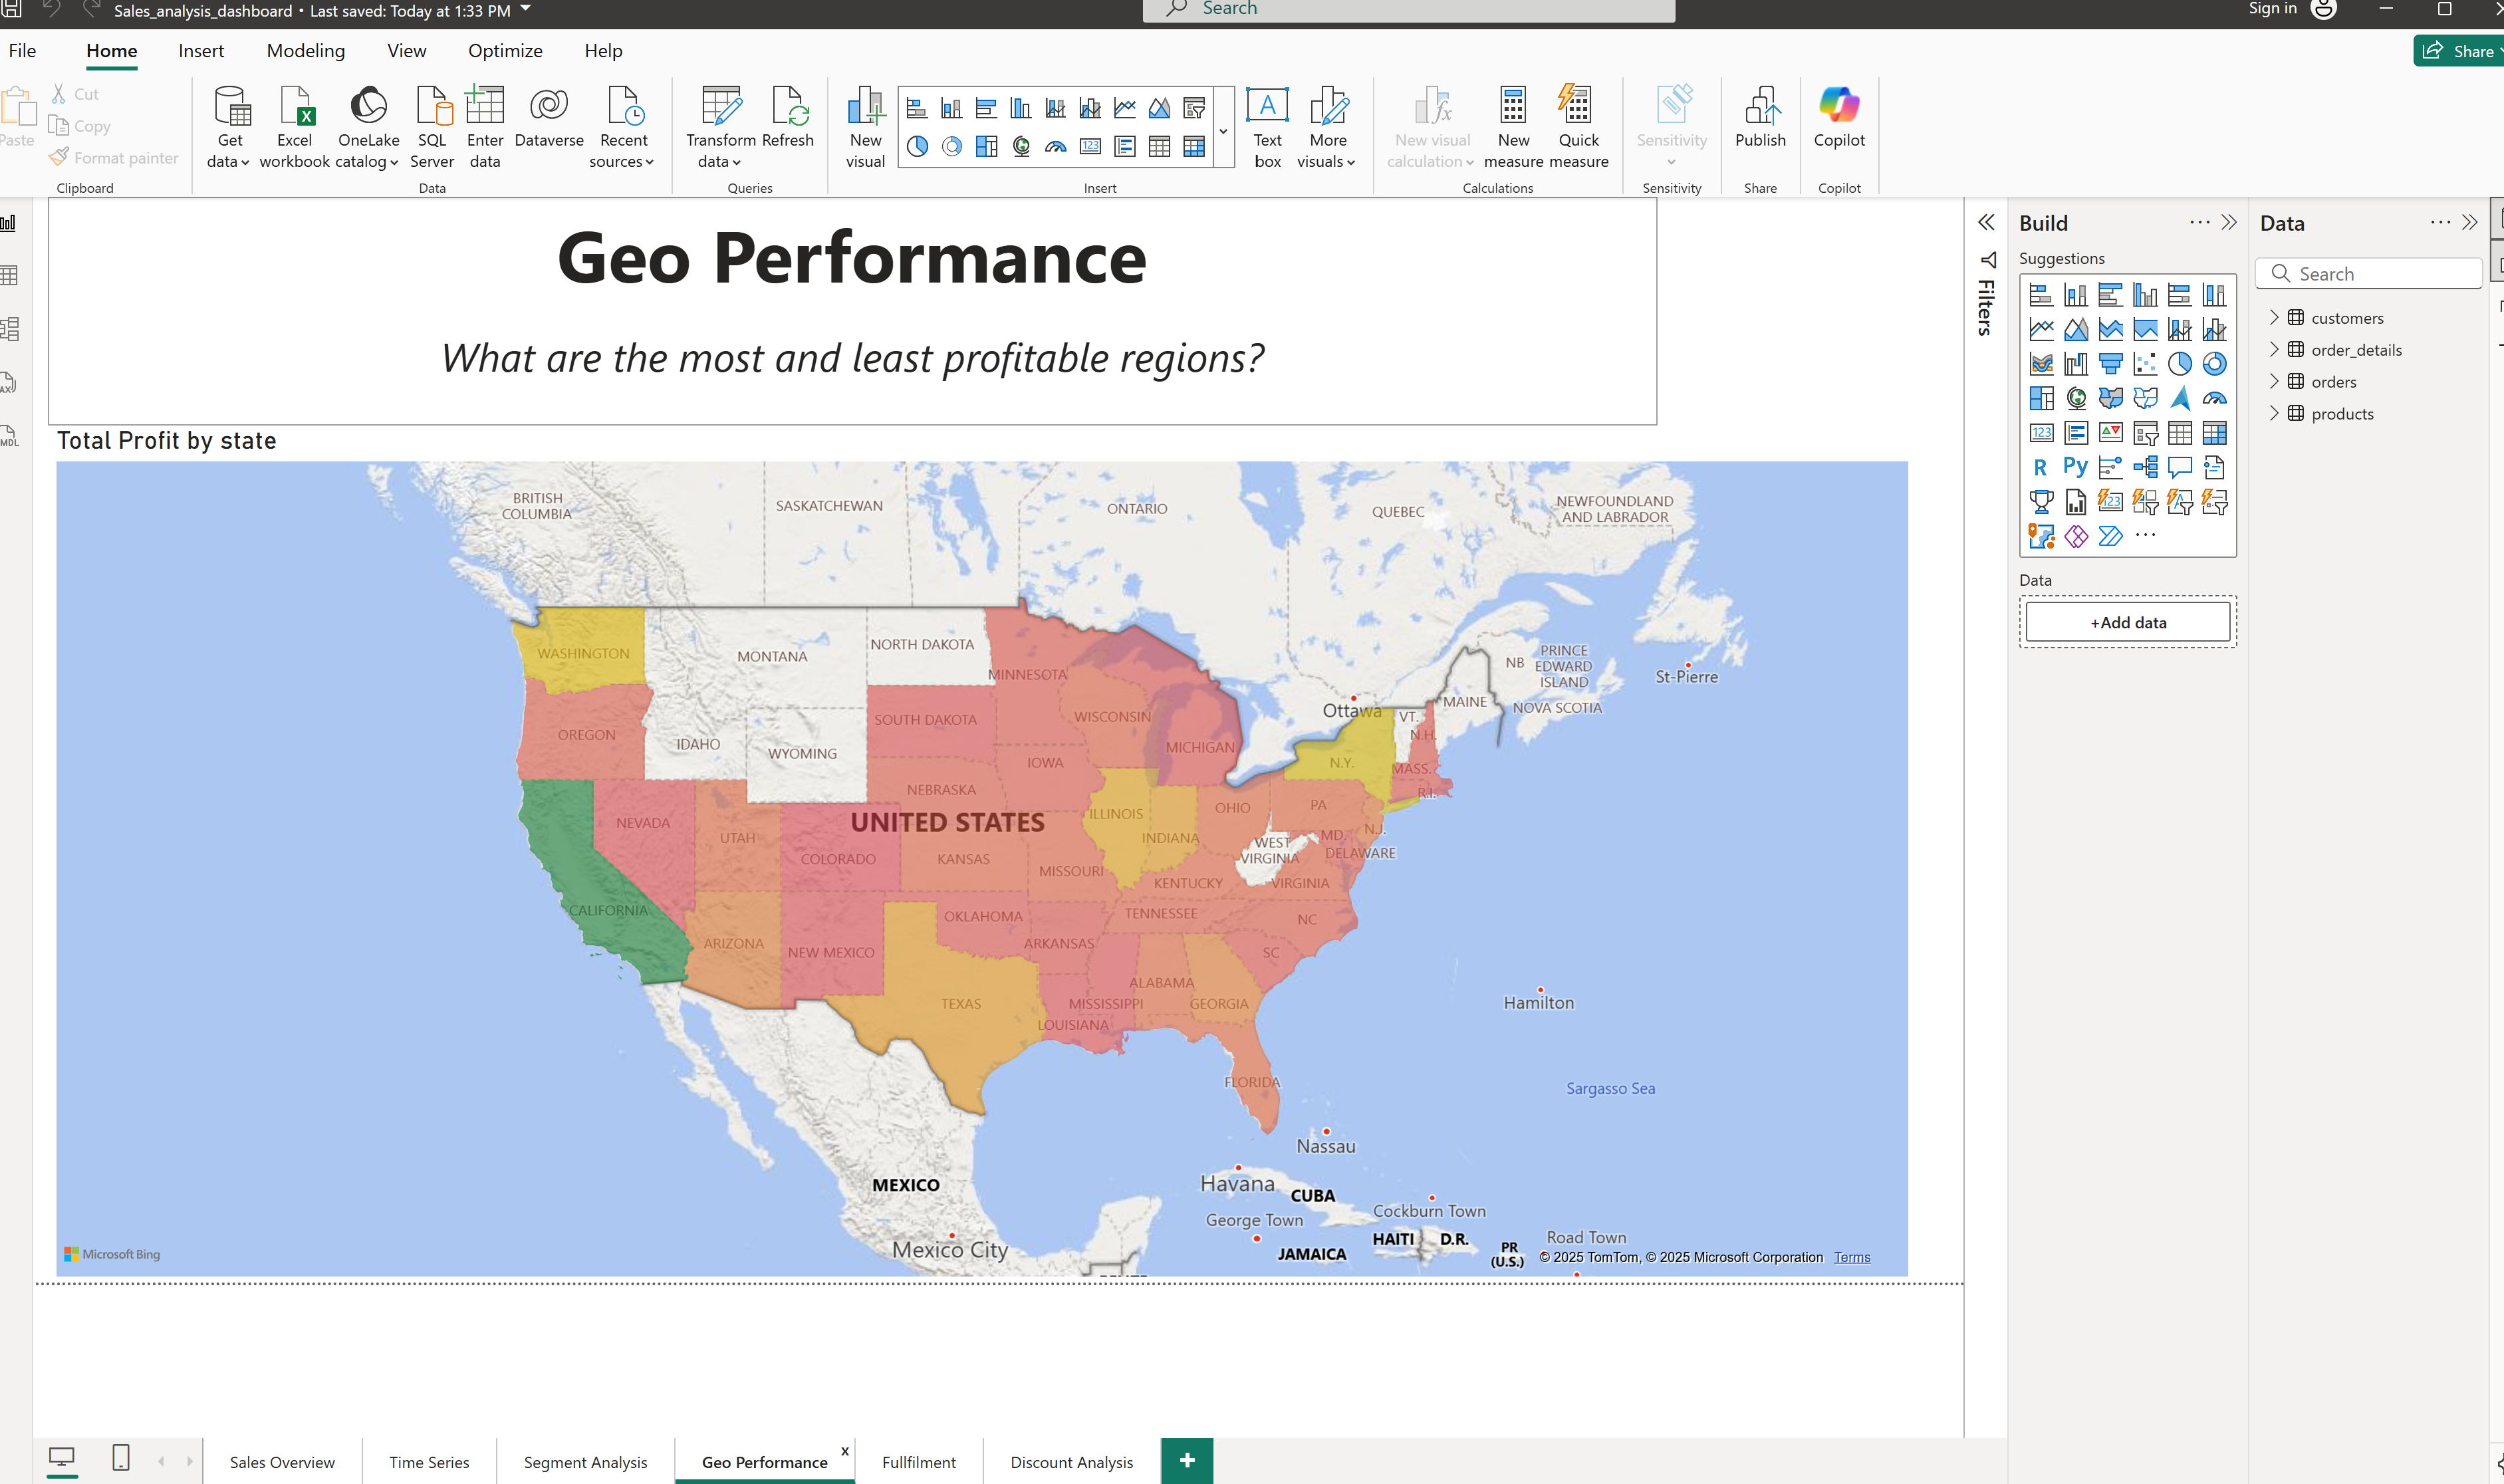

What the dashboard file says about the page in this screenshot:
{"tool":"powerbi","page":{"name":"Geo Performance","canvas":[1280,720],"ordinal":3},"visuals":[{"type":"textbox","box":[10,0,1067,152],"z":0},{"type":"filledMap","fields":{"Category":["customers.state"]},"box":[10.5,152.2,1238.2,569.1],"z":1000}]}

Visuals, with their boxes on the page's 1280x720 design canvas (x1, y1, x2, y2). These are canvas units, not pixel positions in the 2504x1484 screenshot, which may show the page scaled, cropped or inside an application window:
textbox: bbox(10, 0, 1077, 152)
filledMap - customers.state: bbox(10, 152, 1249, 721)
